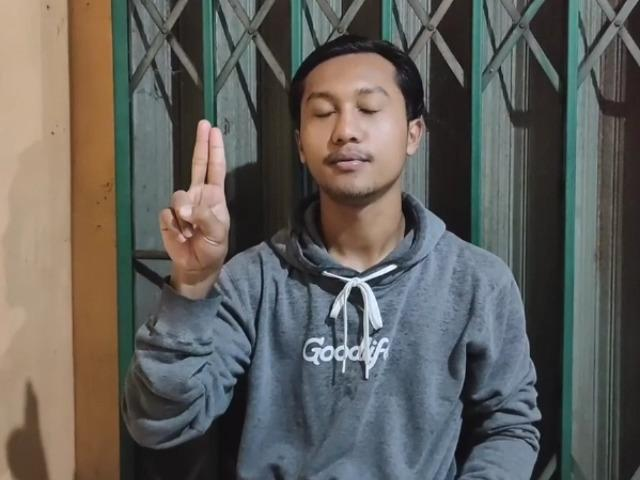U: (152, 111, 234, 277)
